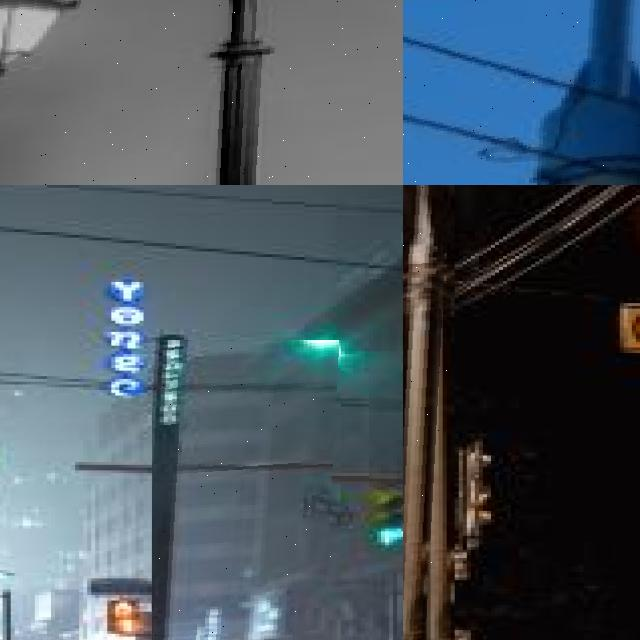street light: (0, 0, 403, 185), (151, 340, 340, 640), (403, 0, 640, 185), (403, 185, 455, 640), (324, 578, 403, 640)
